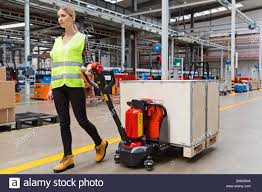Pallet Jack: (82, 65, 221, 171)
